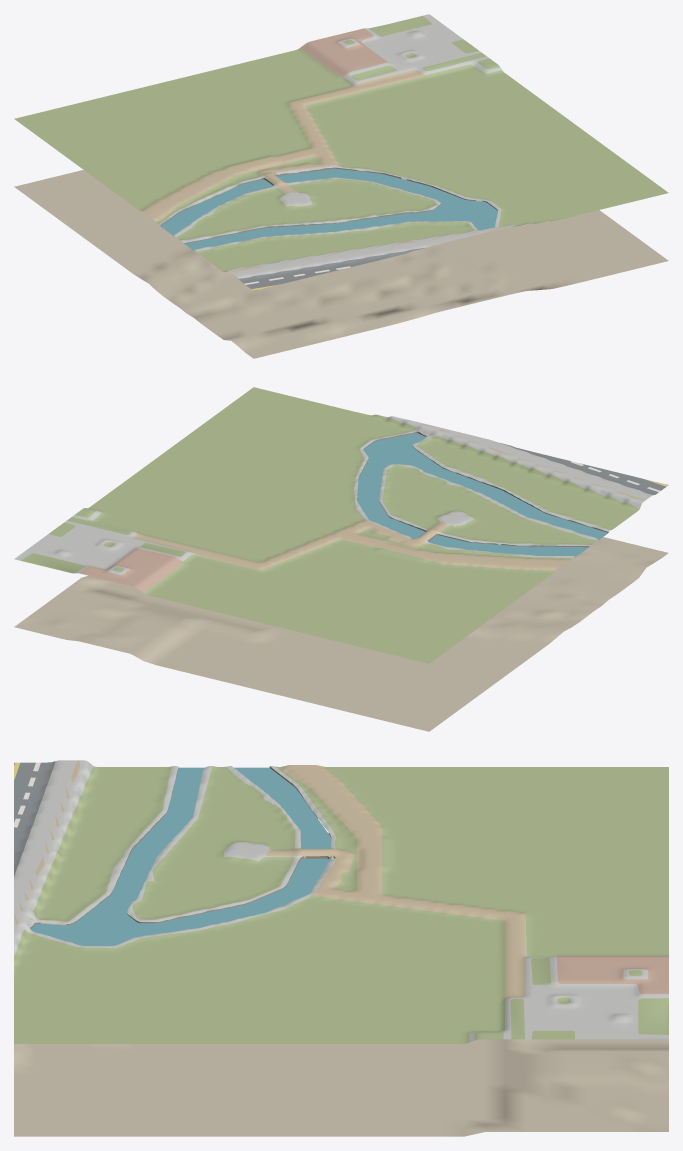
3 views of the same model, one above another, from view 1: azimuth 30°, elevation 25°; view 2: azimuth 150°, elevation 25°; view 3: azimuth 270°, elevation 25° (orthographic). The views are drawn at different scales.
Visible parts, largest first — view 1: s_-4_0__grass, s_-4_0__soil, s_-4_0__stone_paving, s_-4_0__water, s_-4_0__timber_deck, s_-4_0__brick_paving, s_-4_0__asphalt, s_-4_0__shore_bank; view 2: s_-4_0__grass, s_-4_0__soil, s_-4_0__stone_paving, s_-4_0__water, s_-4_0__timber_deck, s_-4_0__brick_paving, s_-4_0__asphalt, s_-4_0__shore_bank; view 3: s_-4_0__grass, s_-4_0__soil, s_-4_0__stone_paving, s_-4_0__water, s_-4_0__timber_deck, s_-4_0__brick_paving, s_-4_0__asphalt, s_-4_0__shore_bank.
Part boxes in pixels (x1,y1,x2,y2): s_-4_0__grass: (14,16,668,271); s_-4_0__soil: (14,168,668,358); s_-4_0__stone_paving: (159,14,535,278); s_-4_0__water: (160,169,497,249); s_-4_0__timber_deck: (141,70,498,272); s_-4_0__brick_paving: (300,28,387,77); s_-4_0__asphalt: (239,247,426,290); s_-4_0__shore_bank: (160,167,497,250); s_-4_0__grass: (21,387,639,663); s_-4_0__soil: (14,537,668,731); s_-4_0__stone_paving: (14,415,653,574); s_-4_0__water: (357,433,607,556); s_-4_0__timber_deck: (133,424,645,570); s_-4_0__brick_paving: (79,548,183,592); s_-4_0__asphalt: (500,443,668,494); s_-4_0__shore_bank: (357,431,608,557); s_-4_0__grass: (14,766,668,1043); s_-4_0__soil: (14,858,668,1136); s_-4_0__stone_paving: (14,760,668,1042); s_-4_0__water: (31,767,331,945); s_-4_0__timber_deck: (14,760,525,999); s_-4_0__brick_paving: (556,956,668,993); s_-4_0__asphalt: (14,761,55,876); s_-4_0__shore_bank: (31,766,331,927).
Size of the model in its own units: 128 by 22.13 by 128.
